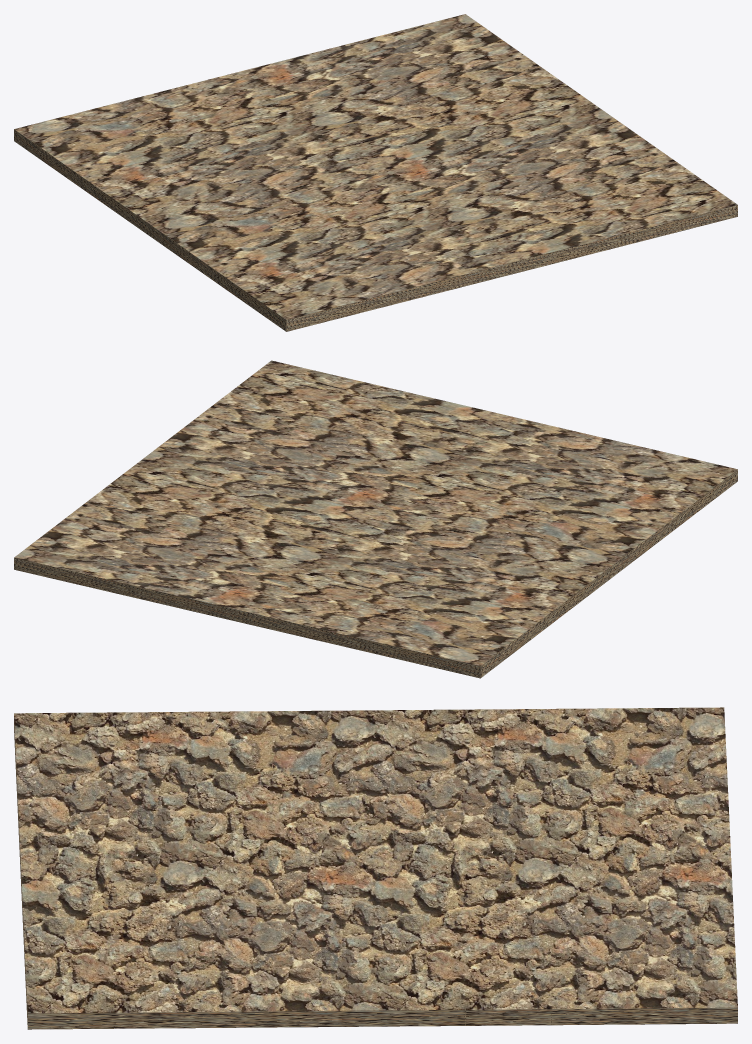
Rendered from Block Square.fbx.
The picture shows the model from 3 angles, top to bottom: view 1: azimuth 30°, elevation 25°; view 2: azimuth 150°, elevation 25°; view 3: azimuth 270°, elevation 25°; orthographic projection. The views are drawn at different scales.
Visible parts, largest first — view 1: Cube_sh_8, Cube_sh_6, Cube_sh_7, Cube_sh_12, Cube_sh_3, Cube_sh_18, Cube_sh_4, Cube_sh_9, Cube_sh_15, Cube_sh_13, Cube_sh_20_sh_4, Cube_sh_5 (+11 smaller); view 2: Cube_sh_8, Cube_sh_12, Cube_sh_4, Cube_sh_6, Cube_sh_7, Cube_sh_18, Cube_sh_3, Cube_sh_9, Cube_sh_15, Cube_sh_20_sh_4, Cube_sh_13, Cube_sh_20_sh_2 (+11 smaller); view 3: Cube_sh_8, Cube_sh_12, Cube_sh_6, Cube_sh_9, Cube_sh_7, Cube_sh_18, Cube_sh_20_sh_4, Cube_sh_4, Cube_sh_3, Cube_sh_15, Cube_sh_13, Cube_sh_20_sh_3 (+11 smaller).
Part boxes in pixels (x1=…): Cube_sh_8: x1=454, y1=87, x2=641, y2=185; Cube_sh_6: x1=430, y1=184, x2=611, y2=271; Cube_sh_7: x1=345, y1=225, x2=523, y2=315; Cube_sh_12: x1=14, y1=114, x2=238, y2=194; Cube_sh_3: x1=222, y1=247, x2=349, y2=331; Cube_sh_18: x1=256, y1=190, x2=430, y2=259; Cube_sh_4: x1=73, y1=58, x2=306, y2=132; Cube_sh_9: x1=564, y1=137, x2=737, y2=225; Cube_sh_15: x1=312, y1=106, x2=457, y2=178; Cube_sh_13: x1=227, y1=89, x2=371, y2=162; Cube_sh_20_sh_4: x1=385, y1=14, x2=536, y2=76; Cube_sh_5: x1=373, y1=162, x2=524, y2=208; Cube_sh_8: x1=113, y1=430, x2=339, y2=509; Cube_sh_12: x1=411, y1=569, x2=531, y2=678; Cube_sh_4: x1=194, y1=584, x2=420, y2=664; Cube_sh_6: x1=320, y1=391, x2=492, y2=471; Cube_sh_7: x1=469, y1=412, x2=671, y2=477; Cube_sh_18: x1=419, y1=463, x2=582, y2=526; Cube_sh_3: x1=582, y1=454, x2=737, y2=526; Cube_sh_9: x1=180, y1=360, x2=309, y2=437; Cube_sh_15: x1=223, y1=506, x2=401, y2=545; Cube_sh_20_sh_4: x1=14, y1=506, x2=142, y2=589; Cube_sh_13: x1=244, y1=539, x2=422, y2=577; Cube_sh_20_sh_2: x1=98, y1=525, x2=217, y2=604; Cube_sh_8: x1=208, y1=918, x2=468, y2=1027; Cube_sh_12: x1=429, y1=707, x2=725, y2=800; Cube_sh_6: x1=21, y1=848, x2=223, y2=944; Cube_sh_9: x1=26, y1=943, x2=278, y2=1029; Cube_sh_7: x1=16, y1=755, x2=177, y2=885; Cube_sh_18: x1=141, y1=759, x2=307, y2=858; Cube_sh_20_sh_4: x1=551, y1=953, x2=737, y2=1025; Cube_sh_4: x1=613, y1=746, x2=732, y2=891; Cube_sh_3: x1=14, y1=712, x2=208, y2=782; Cube_sh_15: x1=346, y1=831, x2=546, y2=936; Cube_sh_13: x1=432, y1=799, x2=626, y2=898; Cube_sh_20_sh_3: x1=465, y1=914, x2=564, y2=1025.
Bounding box in the file's own units: 1019 × 25 × 1019.
Materials: 1 (1 with a texture image).
